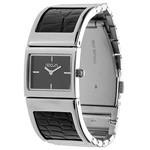watch: (19, 38, 92, 111)
